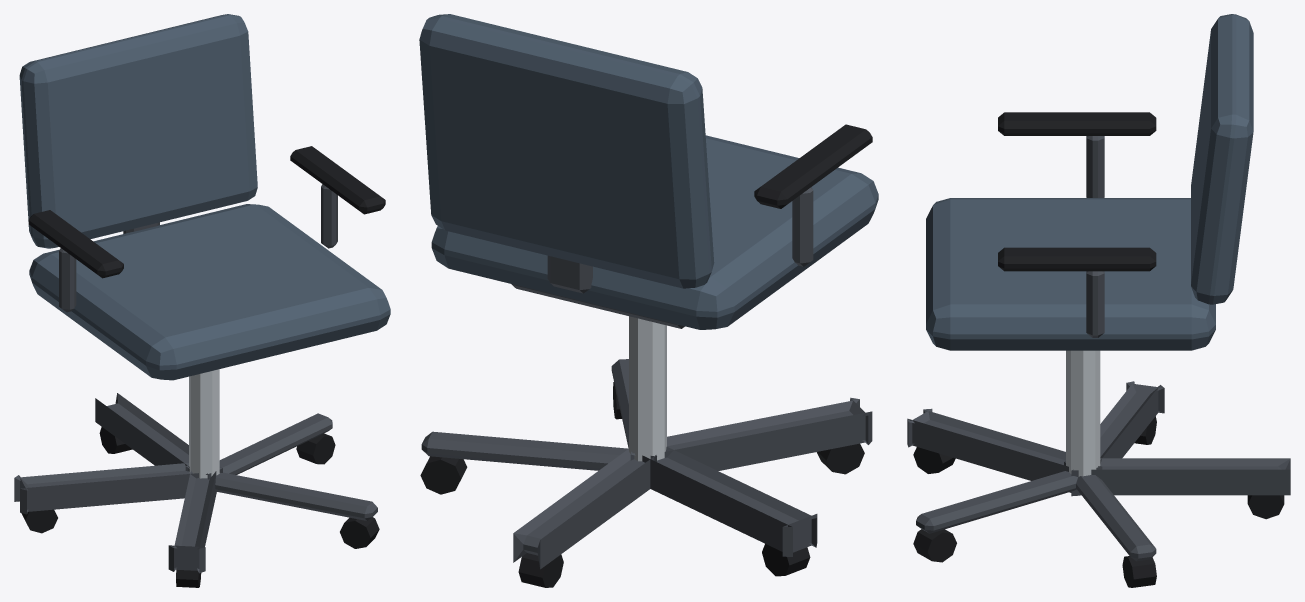
The model's file is office_chair.glb.
3 renders of one model, left to right at view 1: azimuth 30°, elevation 25°; view 2: azimuth 150°, elevation 25°; view 3: azimuth 270°, elevation 25°, orthographic. The views are drawn at different scales.
Parts seen in each view (by area): view 1: office_chair_Body; view 2: office_chair_Body; view 3: office_chair_Body.
Part boxes in pixels (x1=…): office_chair_Body: x1=14, y1=14, x2=390, y2=587; office_chair_Body: x1=419, y1=14, x2=878, y2=587; office_chair_Body: x1=907, y1=14, x2=1290, y2=587.
Size of the model in its own units: 0.7 by 0.9 by 0.696.
